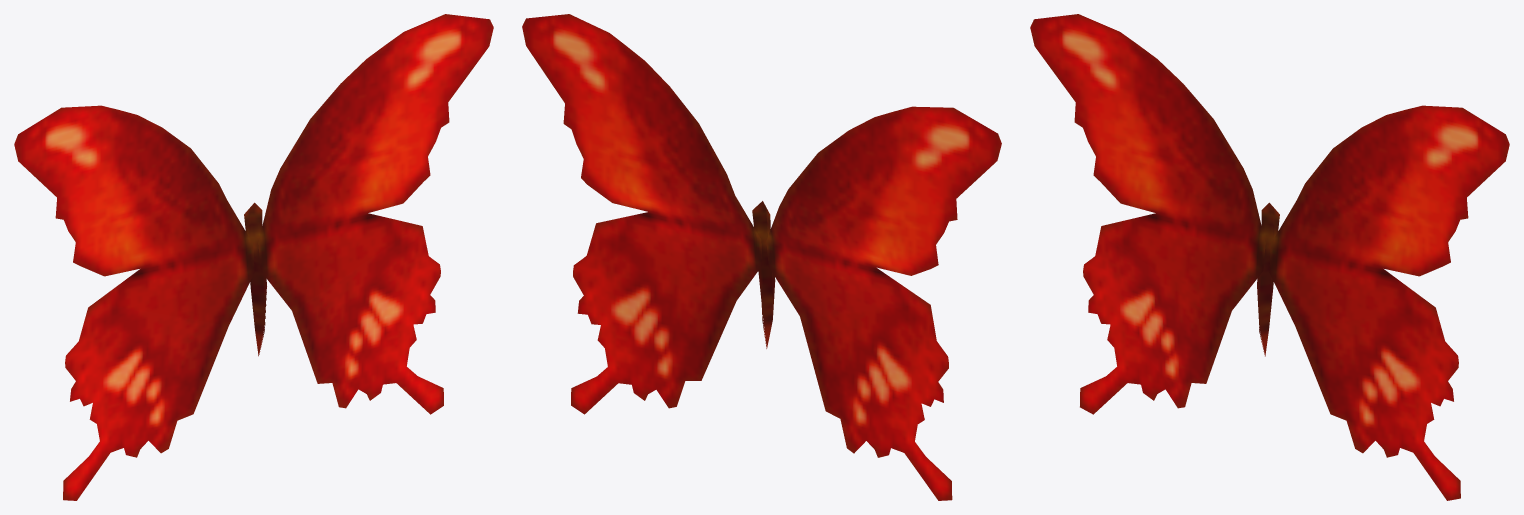
Rendered from ps2_save-icons_fatal-frame-2.glb.
The picture shows the model from 3 angles, left to right: view 1: azimuth 30°, elevation 25°; view 2: azimuth 150°, elevation 25°; view 3: azimuth 330°, elevation 25°; orthographic projection.
Visible parts, largest first — view 1: zero-b-game.ico; view 2: zero-b-game.ico; view 3: zero-b-game.ico.
Part boxes in pixels (x1,y1,x2,y2): zero-b-game.ico: (14, 14, 493, 500); zero-b-game.ico: (522, 14, 1001, 500); zero-b-game.ico: (1030, 14, 1509, 500).
Bounding box in the file's own units: 4.77 × 3.77 × 0.2705.
Materials: 1 (1 with a texture image).
